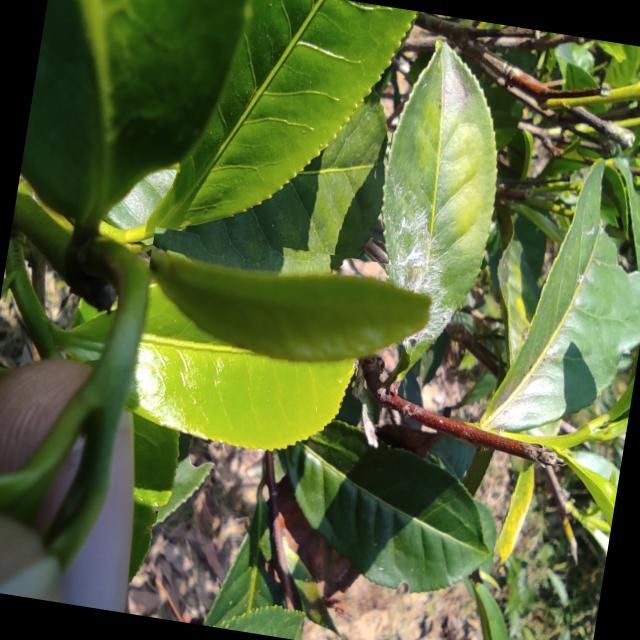Category C 4-7 days: (130, 226, 468, 428)
